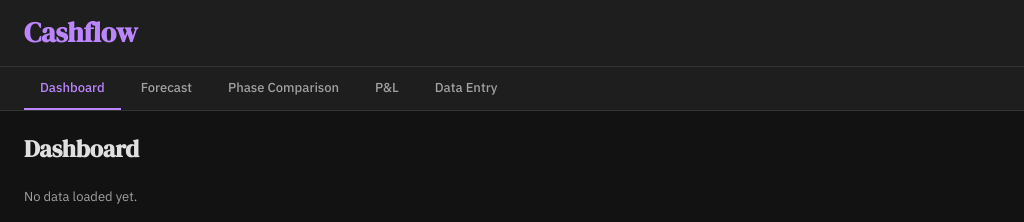
App › switches to the P&L tab when clicked
The image size is (1024, 222).
Click the button "P&L" at (387, 88), box x1=359 y1=67 x2=415 y2=110
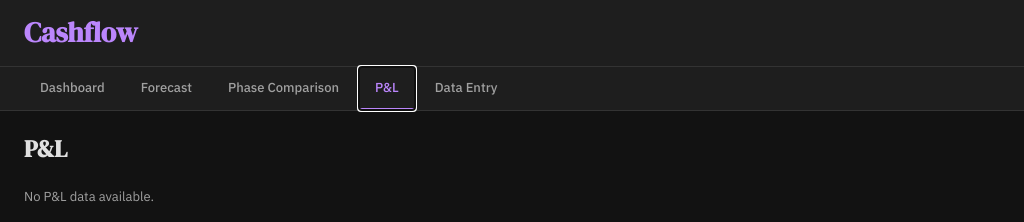
Now the text "No P&L data available." is shown, box x1=24 y1=188 x2=154 y2=205
